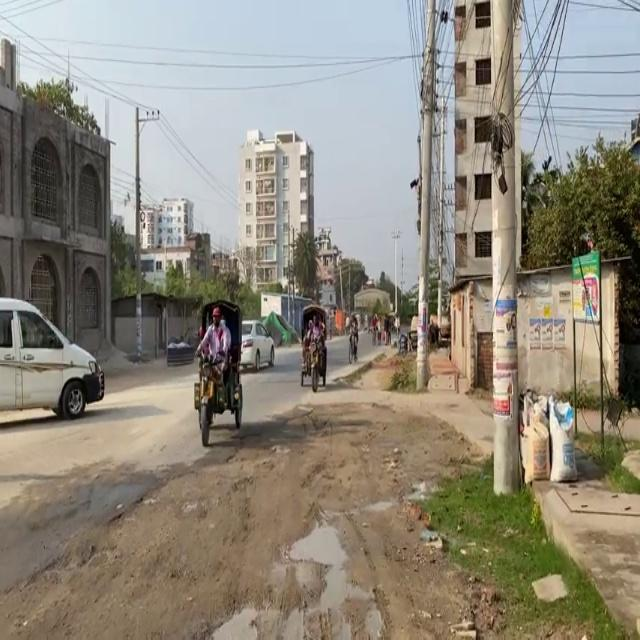Broken-road: (0, 296, 105, 421)
Construction-barrier: (533, 479, 640, 640), (330, 346, 389, 384)
Fallen-tree: (193, 346, 243, 446), (348, 328, 359, 363), (398, 333, 407, 355)
Garbage-bin: (194, 306, 232, 403), (301, 313, 326, 374)
Light-pole: (489, 0, 521, 496), (414, 0, 438, 391)
